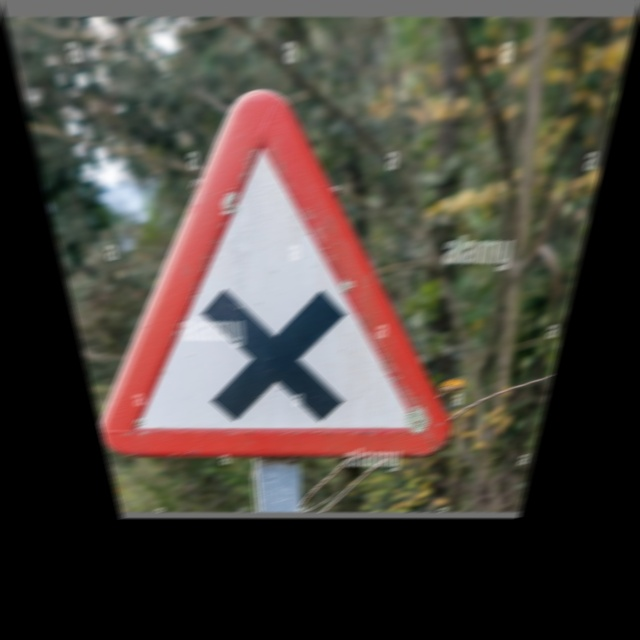Cross_Road: (39, 99, 491, 453)
